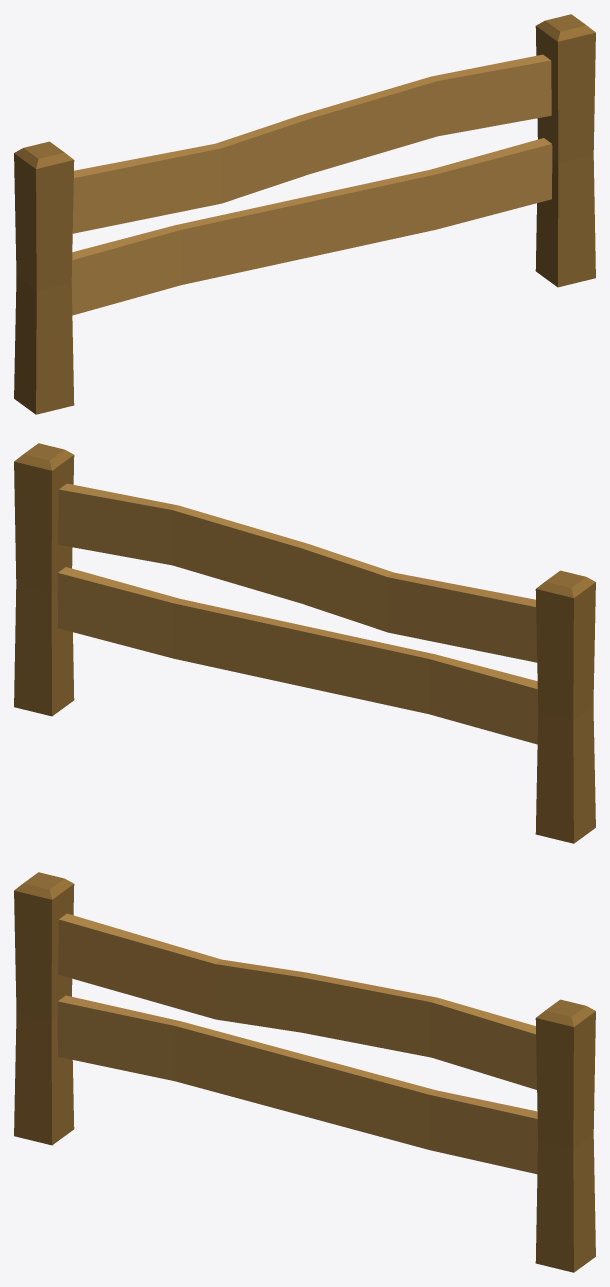
Rendered from Cit.fbx.
3 views of the same model, one above another, from view 1: azimuth 30°, elevation 25°; view 2: azimuth 150°, elevation 25°; view 3: azimuth 330°, elevation 25° (orthographic).
Parts seen in each view (by area): view 1: Cube; view 2: Cube; view 3: Cube.
Boxes of the visible parts, x1,y1,x2,y2 form: Cube: (14, 14, 595, 414); Cube: (14, 443, 595, 843); Cube: (14, 872, 595, 1272).
Bounding box in the file's own units: 217 × 93.22 × 14.79.
